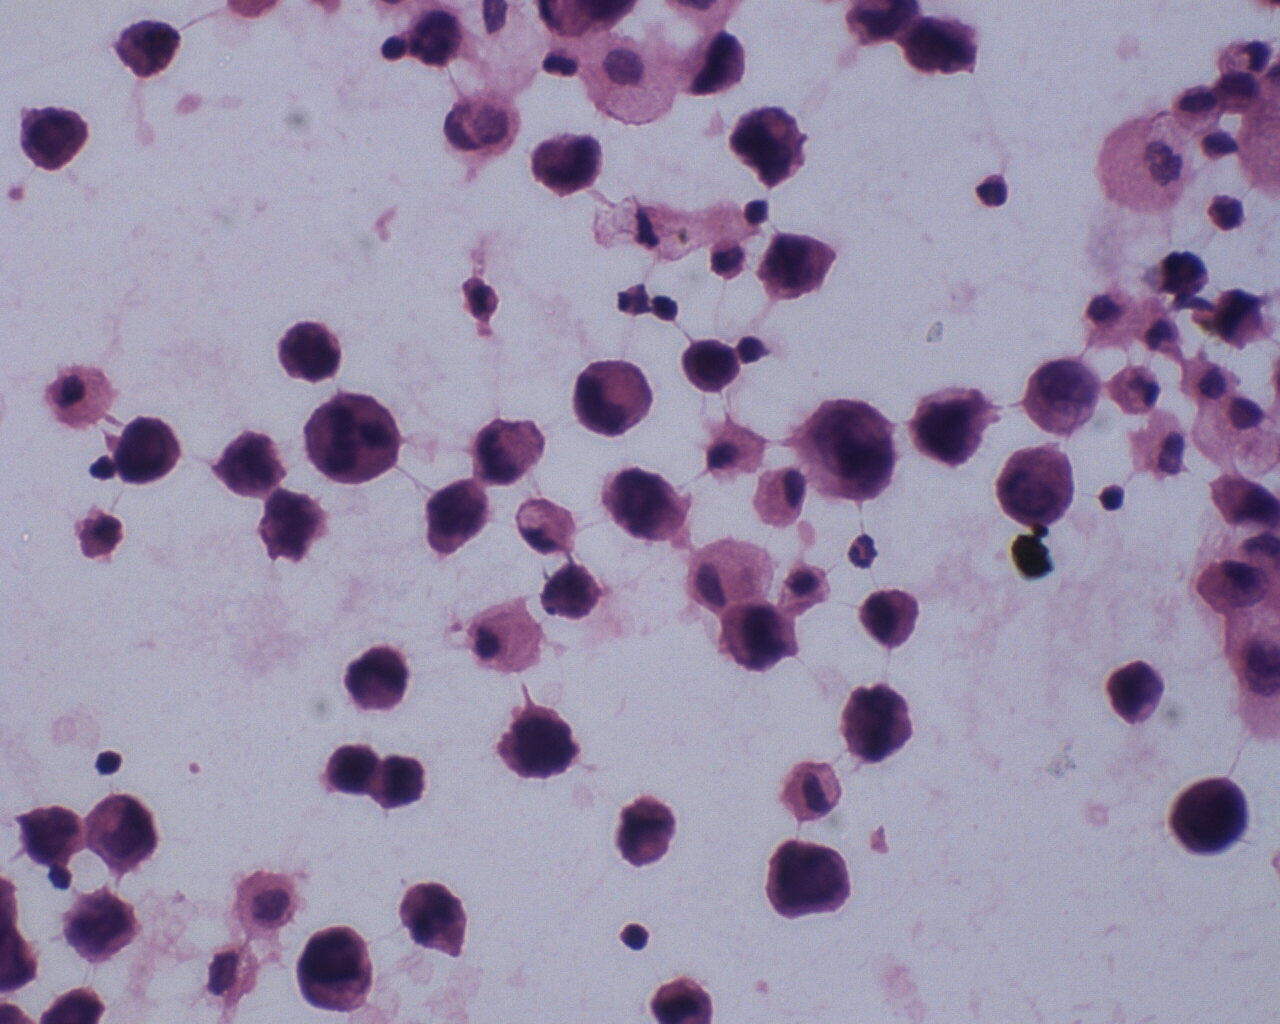ab: (793, 393, 902, 507), (301, 389, 403, 485), (1166, 769, 1250, 863), (765, 835, 851, 925), (917, 378, 994, 473), (297, 924, 377, 1014), (498, 698, 581, 785), (997, 440, 1076, 530), (1020, 351, 1102, 437), (605, 465, 692, 545), (732, 100, 808, 191), (841, 675, 916, 765), (63, 883, 141, 965), (397, 872, 468, 963), (717, 598, 798, 675), (84, 792, 160, 872), (17, 100, 94, 178), (528, 125, 608, 197), (612, 791, 682, 872), (424, 472, 490, 558), (762, 228, 835, 304), (209, 425, 283, 499), (271, 315, 346, 385), (112, 412, 180, 485), (346, 639, 413, 714), (1106, 656, 1169, 734), (13, 798, 83, 866), (683, 333, 741, 398), (326, 735, 379, 801), (375, 751, 429, 811)
histo: (465, 594, 546, 672), (752, 465, 808, 530)
meso: (571, 353, 652, 441), (237, 866, 306, 936)
neutro: (846, 533, 877, 571)
